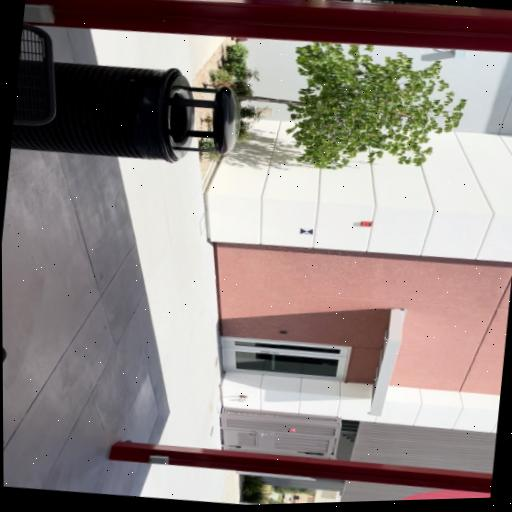target2: (300, 227, 314, 236)
